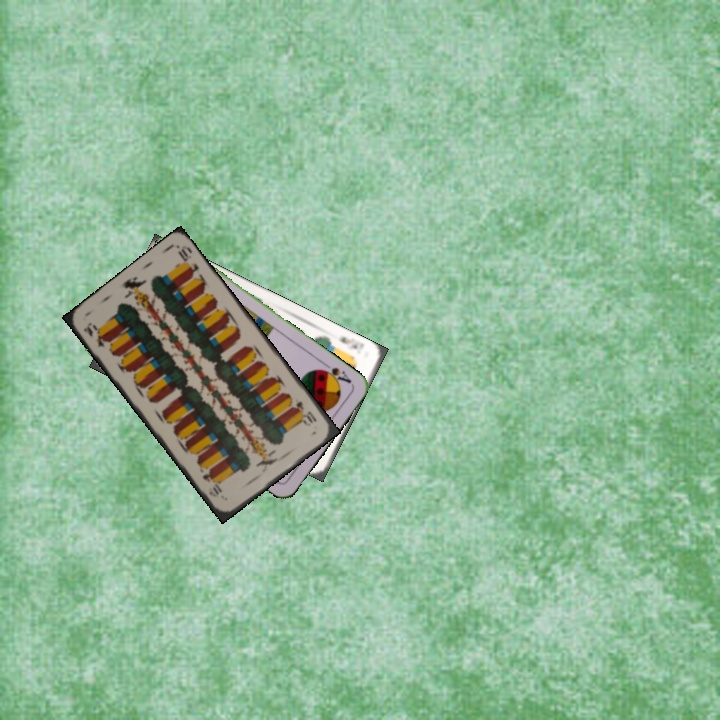E10: (79, 318, 114, 352), (291, 397, 320, 429)
EK: (334, 332, 367, 352)
SA: (315, 363, 354, 386)
